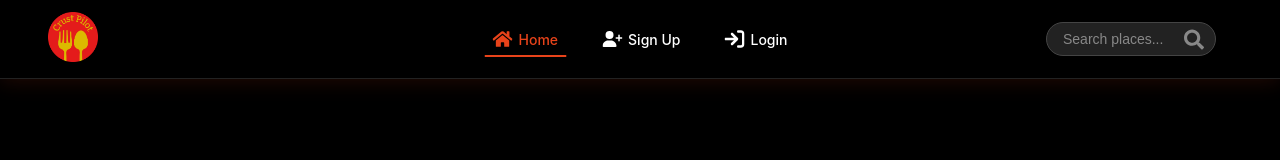
Test case: Navbar › displays search results when user types
Type "Sushi" into the field with placeholder "Search places...".
click(1131, 39); type("Sushi")  # box [1046,22,1216,56]
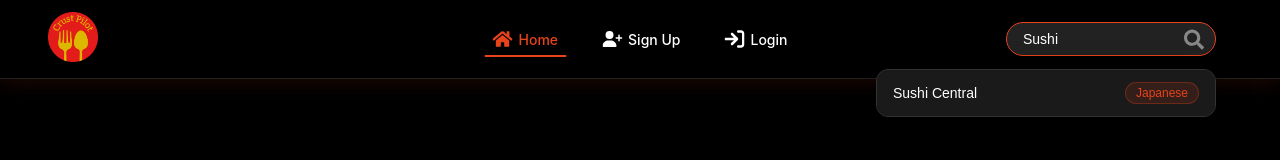
Check: the text "Sushi Central" is shown, box [893,85,977,101]
